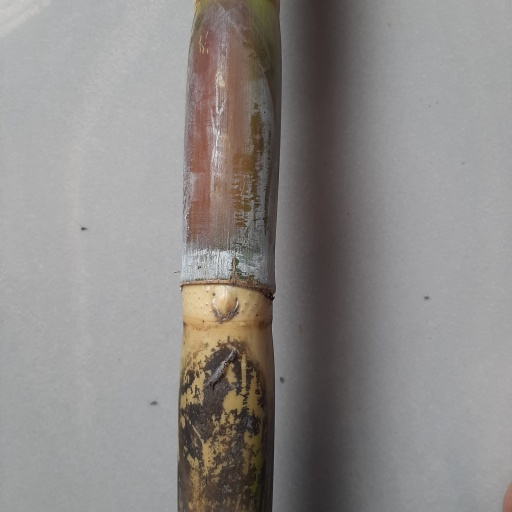Bud: (212, 286, 241, 323)
